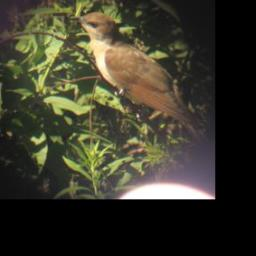Cuckoo: (69, 11, 211, 148)
